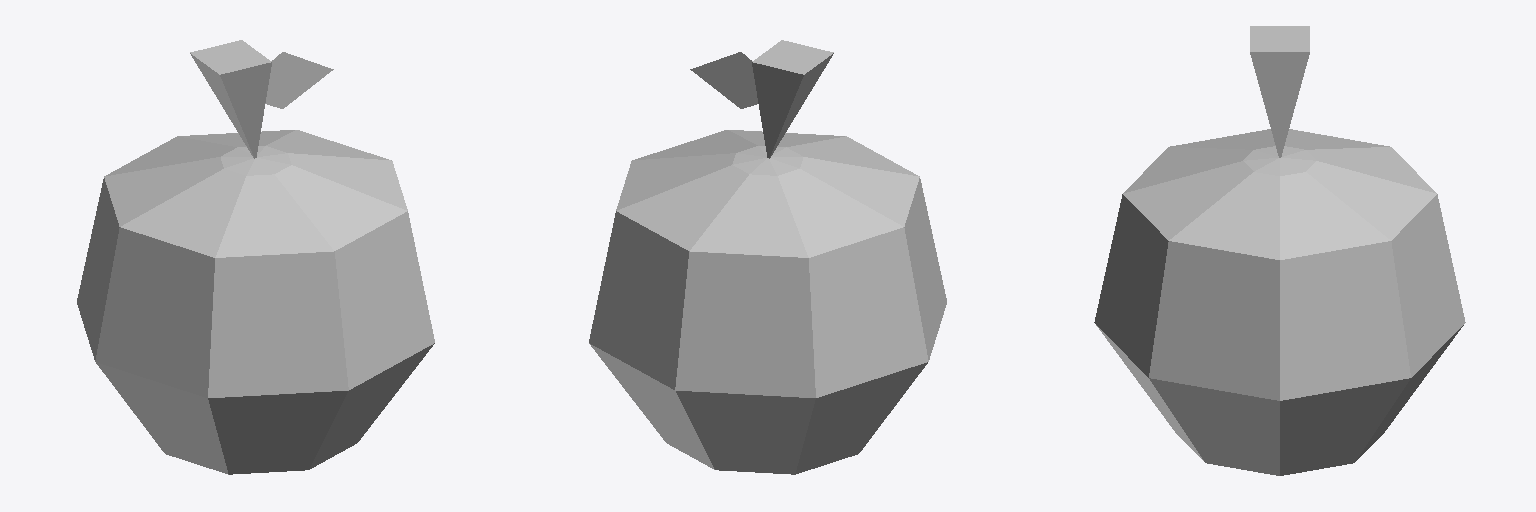
Rendered from Apple.obj.
3 views of the same model, side by side, from view 1: azimuth 30°, elevation 25°; view 2: azimuth 150°, elevation 25°; view 3: azimuth 270°, elevation 25° (orthographic).
Parts seen in each view (by area): view 1: Sphere; view 2: Sphere; view 3: Sphere.
Part boxes in pixels (bbox=[...]): Sphere: bbox=[77, 40, 434, 474]; Sphere: bbox=[589, 40, 946, 474]; Sphere: bbox=[1094, 26, 1465, 475].
Bounding box in the file's own units: 1.96 × 2.39 × 1.96.